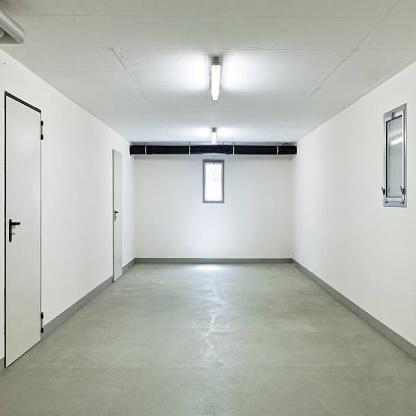Window: (202, 162, 224, 203)
